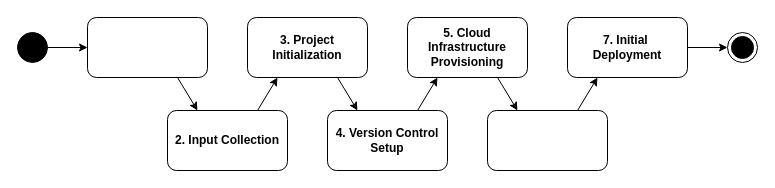
This 775x188 diagram has some shape labels left out. The shapes that lost their labels are listed below. From the top down, each one's centre as x and y in pixels, then its label:
point 147,47: 1. Environment Preparation
point 547,140: 6. CI/CD Configuration
